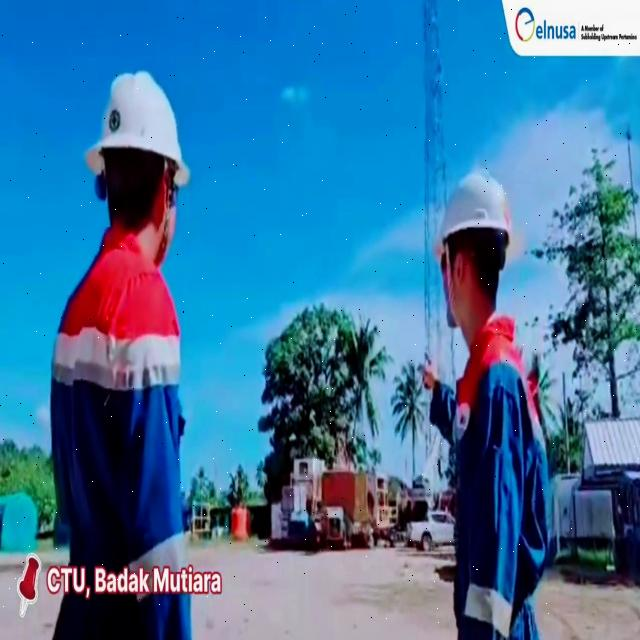Hardhat: (83, 73, 194, 185), (432, 161, 512, 248)
No Glove: (419, 349, 440, 396)
Overall Suit: (50, 234, 191, 640), (451, 322, 550, 640)
Strapped: (443, 240, 460, 322), (161, 160, 172, 255)
